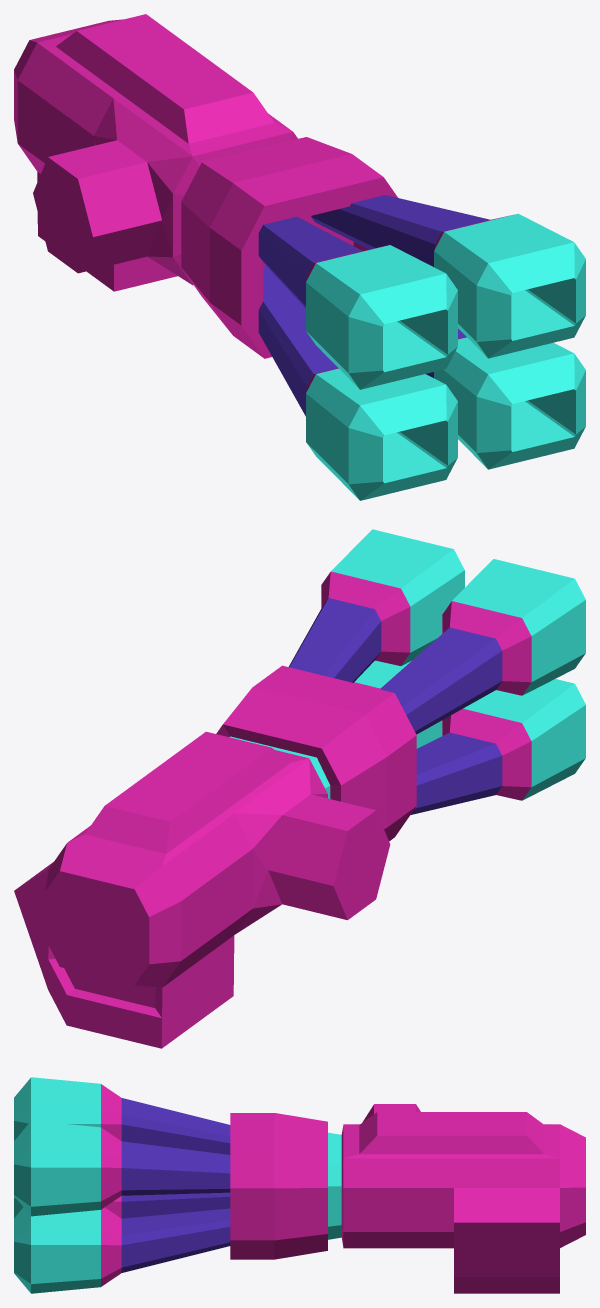
File: Shotgun.fbx
The picture shows the model from 3 angles, top to bottom: view 1: azimuth 30°, elevation 25°; view 2: azimuth 150°, elevation 25°; view 3: azimuth 270°, elevation 25°; orthographic projection. The views are drawn at different scales.
Parts seen in each view (by area): view 1: Shotgun; view 2: Shotgun; view 3: Shotgun.
Part boxes in pixels (x1,y1,x2,y2): Shotgun: (14, 14, 585, 500); Shotgun: (14, 529, 585, 1048); Shotgun: (14, 1077, 585, 1293).
Bounding box in the file's own units: 50.64 × 43.15 × 138.
